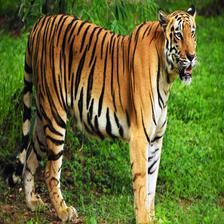tiger: (25, 6, 206, 224)
